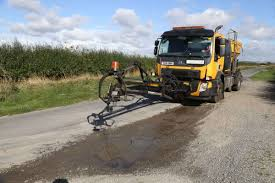pothole: (101, 134, 151, 172)
